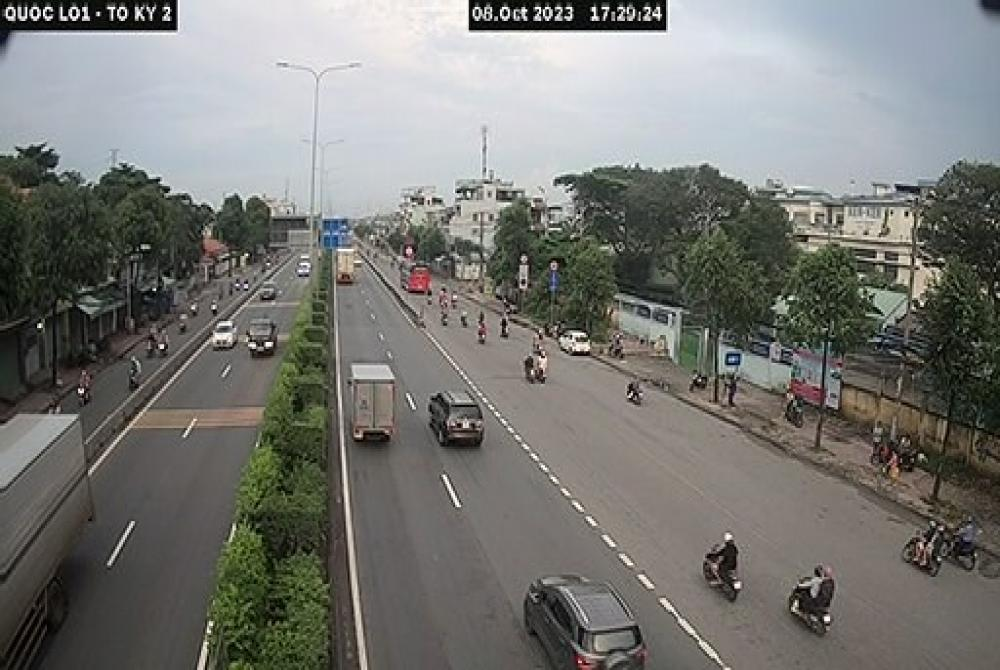car: (514, 560, 655, 670), (423, 380, 490, 464), (242, 308, 282, 363), (558, 324, 596, 380), (207, 316, 242, 364)
truck: (0, 405, 100, 663), (342, 335, 412, 486)
